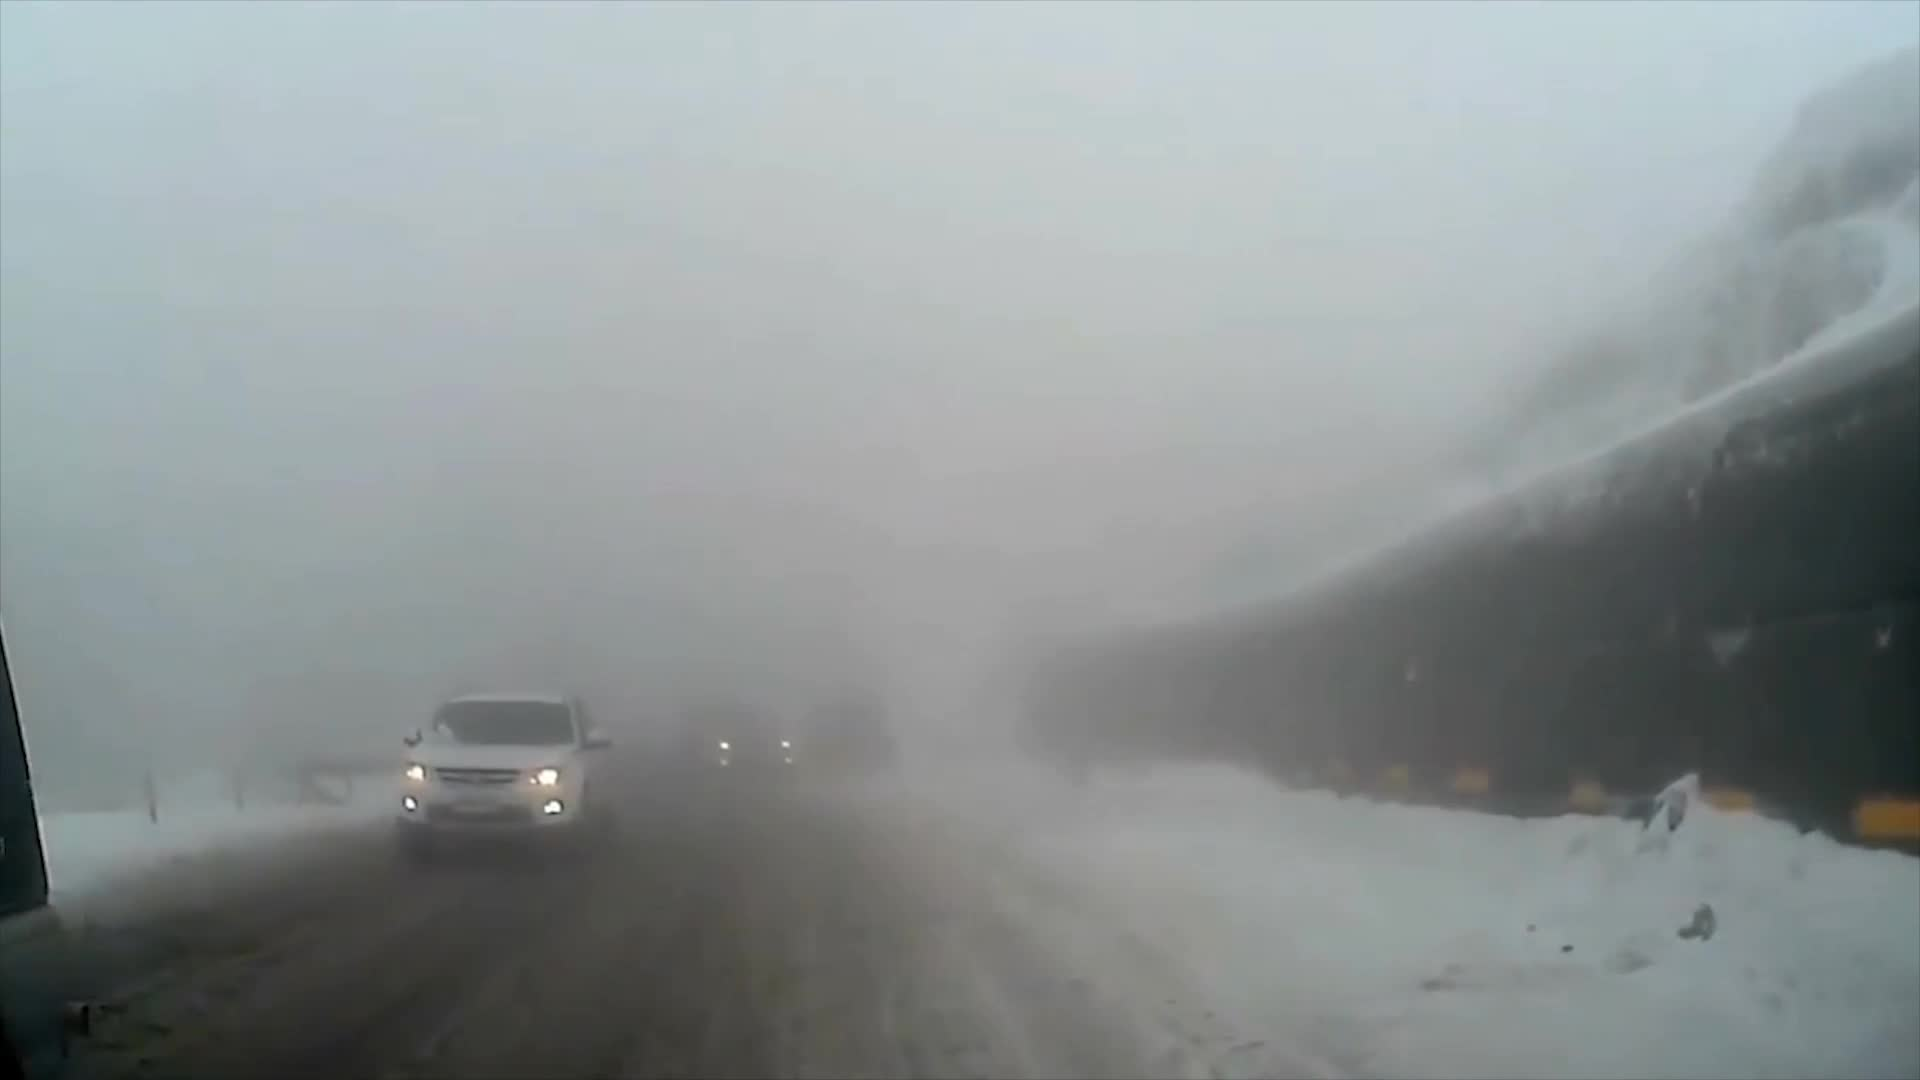vehicle: (0, 624, 95, 1079), (392, 684, 618, 861)
